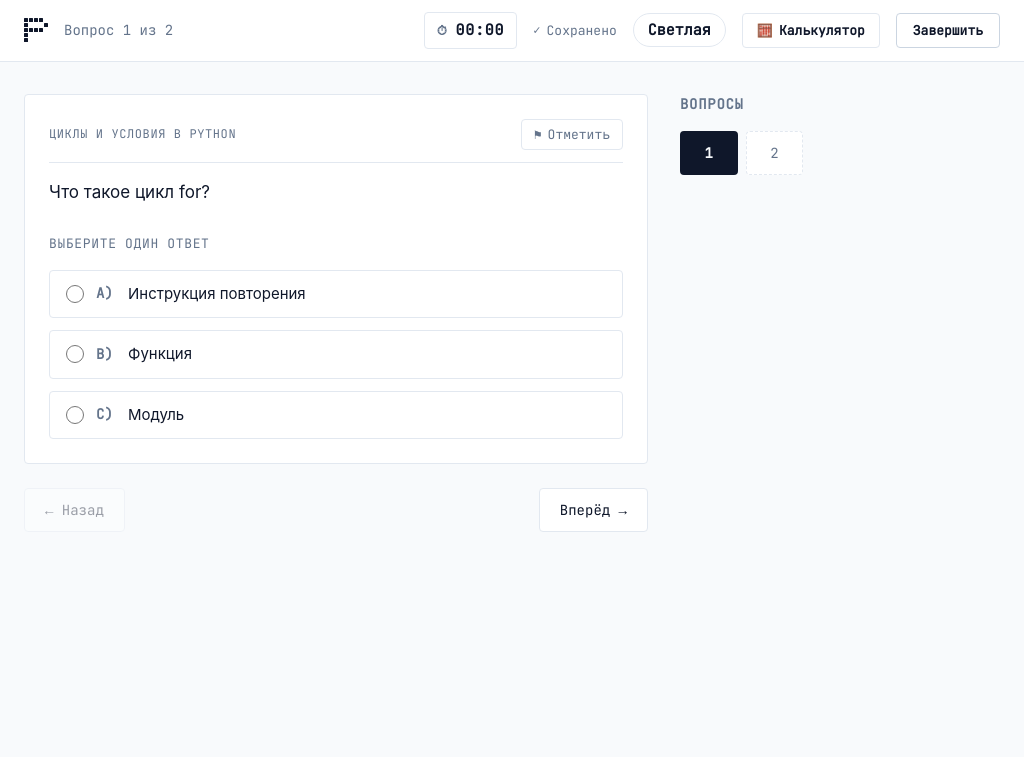
Scenario: TestPage Integration › allows answering, navigating, flagging, and finishing the test
Expected: the text "Что такое цикл for?" is shown, [49,182,210,202]
Expected: the text "Вопрос 1 из 2" is shown, [64,20,173,41]
Click the radio button labelled "A) Инструкция повторения".
click(75, 294)  # box [66,285,84,303]
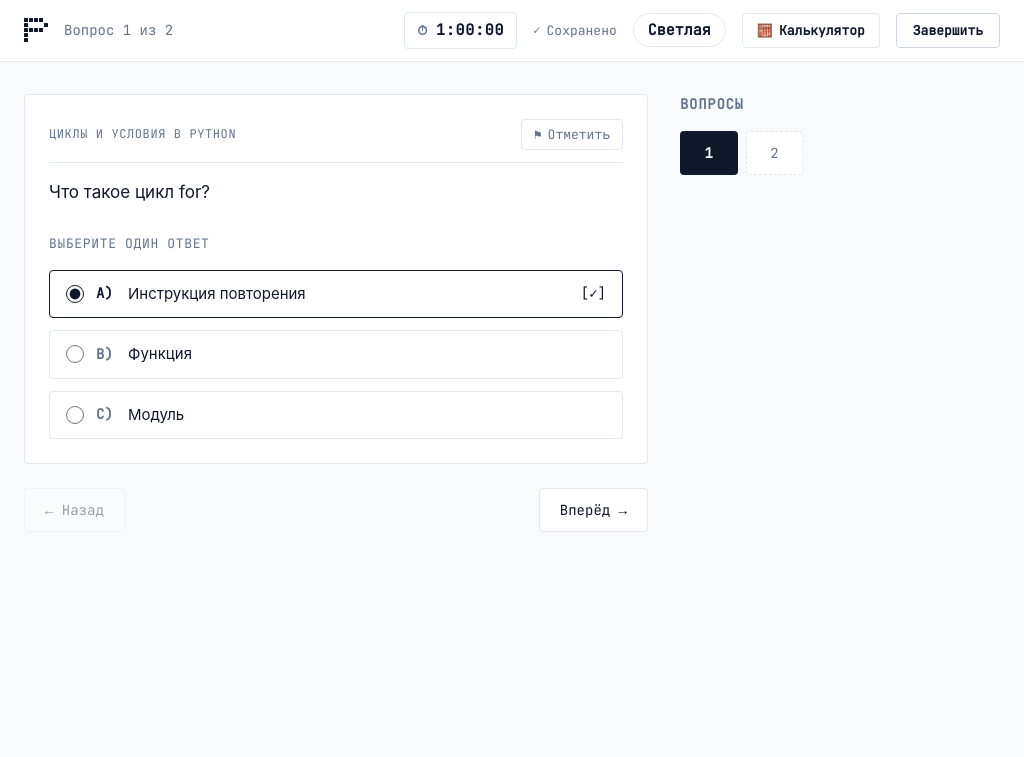
Now the radio button labelled "A) Инструкция повторения [✓]" is checked, box [66,285,84,303]
Flag Question 1
Click the button "⚑ Отметить".
click(572, 134)  # box [521,118,623,150]
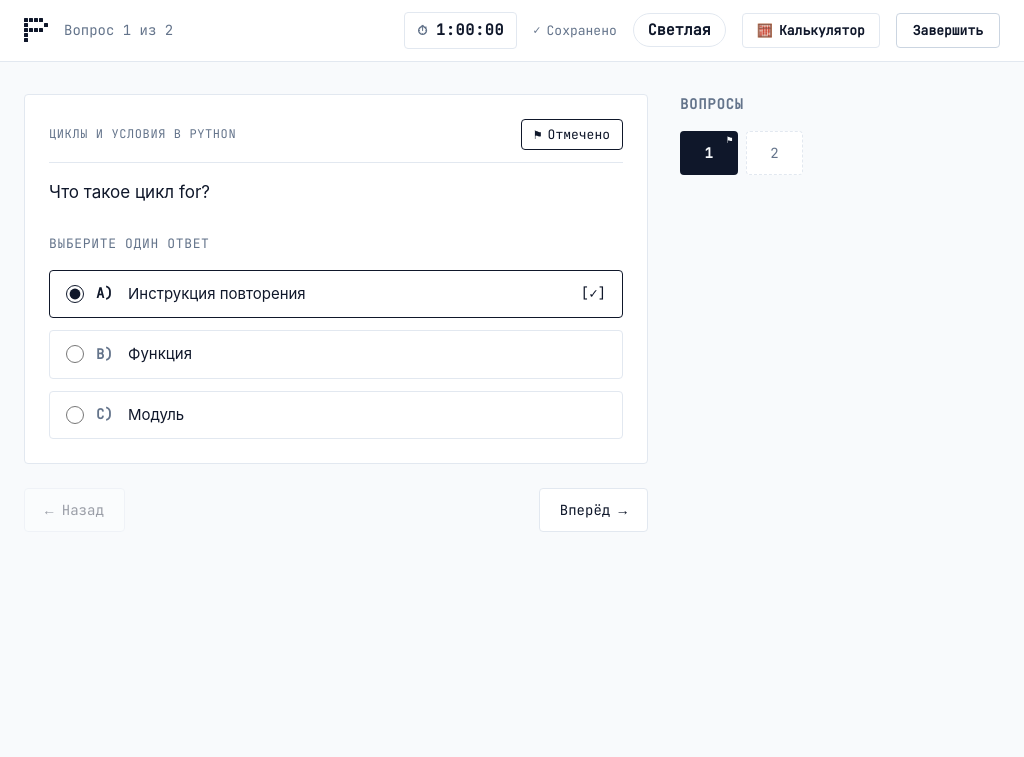
Now the button "⚑ Отмечено" is shown, box [521,118,623,150]
Navigate to Question 2 via "Вперёд" button
Click the button "Вперёд →".
click(593, 510)  # box [539,488,648,532]
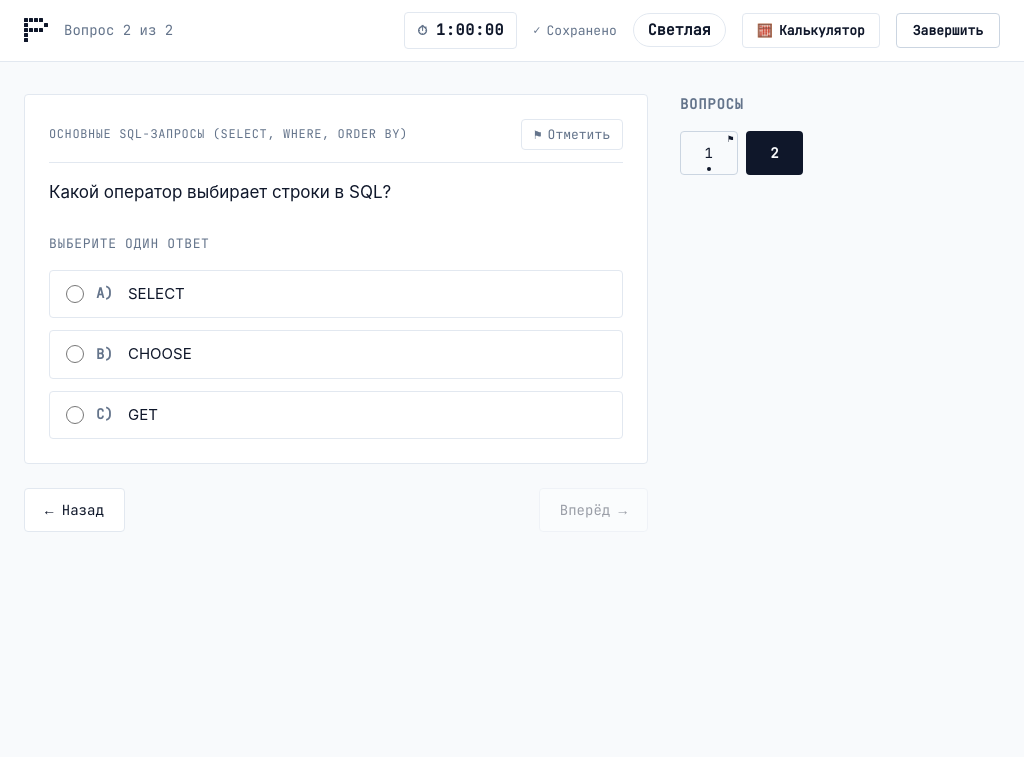
Now the text "Какой оператор выбирает строки в SQL?" is shown, box [49,182,391,202]
Now the text "Вопрос 2 из 2" is shown, box [64,20,173,41]
Click "Завершить" to open ConfirmDialog
Click the button "Завершить".
click(948, 30)  # box [896,13,1000,48]
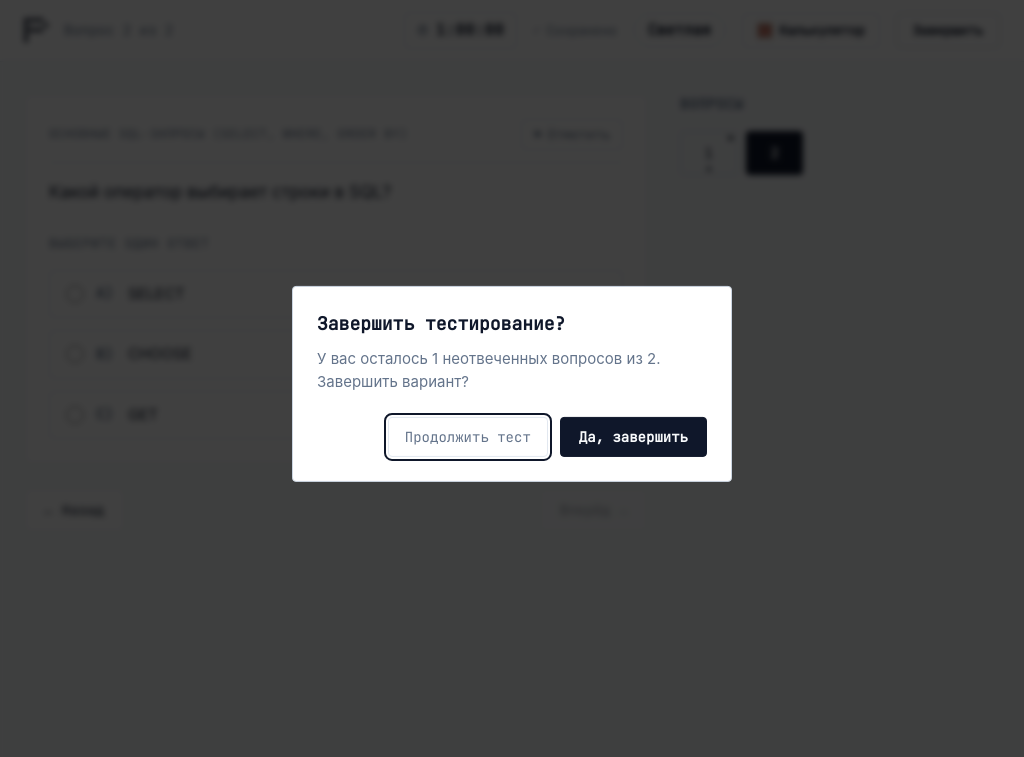
Now the heading "Завершить тестирование?" is shown, box [317,312,565,335]
Now the text "У вас осталось 1 неотвеченных вопросов из 2" is shown, box [317,349,660,391]
Confirm finish in dialog
Click the button "Да, завершить".
click(633, 437)  # box [560,417,707,457]
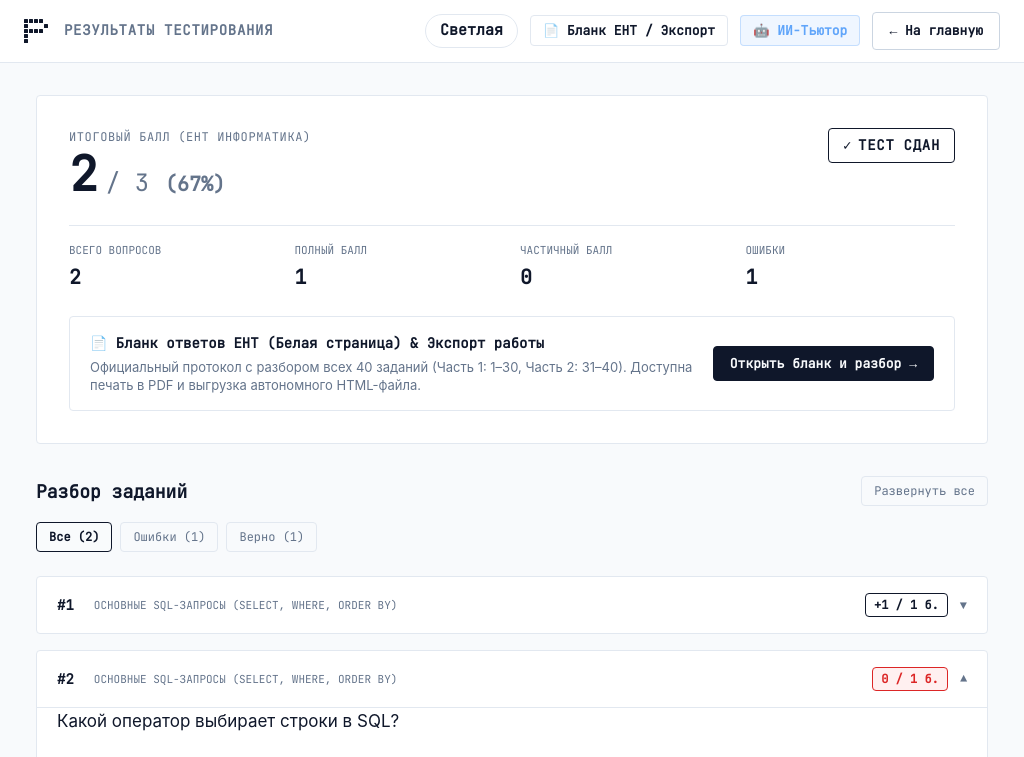
Now the text "Результаты тестирования" is shown, box [64,20,273,41]
Now the text "Итоговый балл (ЕНТ Информатика)" is shown, box [69,128,311,146]
